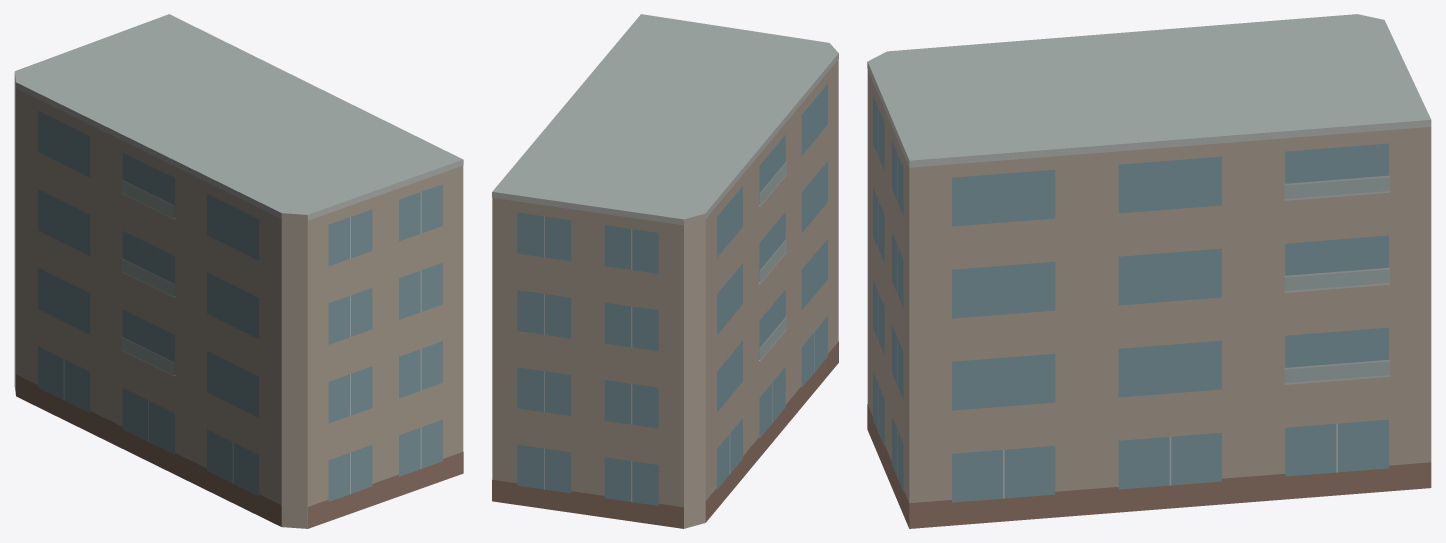
Rendered from survey-upis-32703458.glb.
3 renders of one model, left to right at view 1: azimuth 30°, elevation 25°; view 2: azimuth 150°, elevation 25°; view 3: azimuth 270°, elevation 25°, orthographic. The views are drawn at different scales.
Parts seen in each view (by area): view 1: survey-upis-32703458.tmp; view 2: survey-upis-32703458.tmp; view 3: survey-upis-32703458.tmp.
Boxes of the visible parts, left/top/right/bottom form: survey-upis-32703458.tmp: left=14, top=14, right=463, bottom=528; survey-upis-32703458.tmp: left=492, top=14, right=838, bottom=528; survey-upis-32703458.tmp: left=867, top=14, right=1431, bottom=528.
Bounding box in the file's own units: 10.95 × 12.8 × 17.78.
